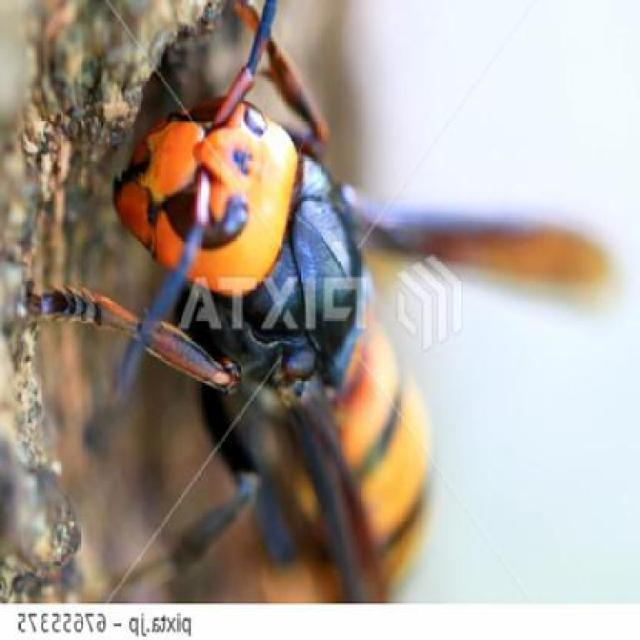Wasp: (9, 3, 605, 591)
